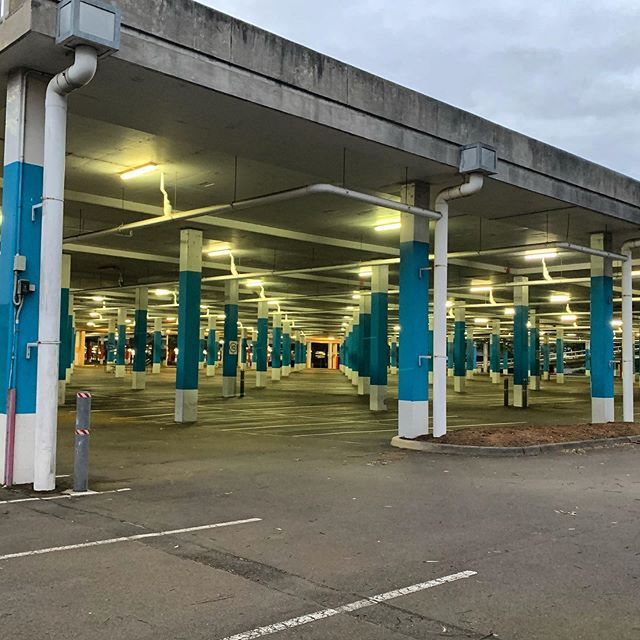collumn: (1, 69, 83, 496), (391, 179, 437, 452), (582, 222, 625, 439), (174, 226, 212, 425), (361, 256, 391, 417), (508, 275, 540, 413), (218, 273, 243, 400), (129, 277, 154, 404), (253, 294, 271, 395)
street: (1, 400, 640, 638)
